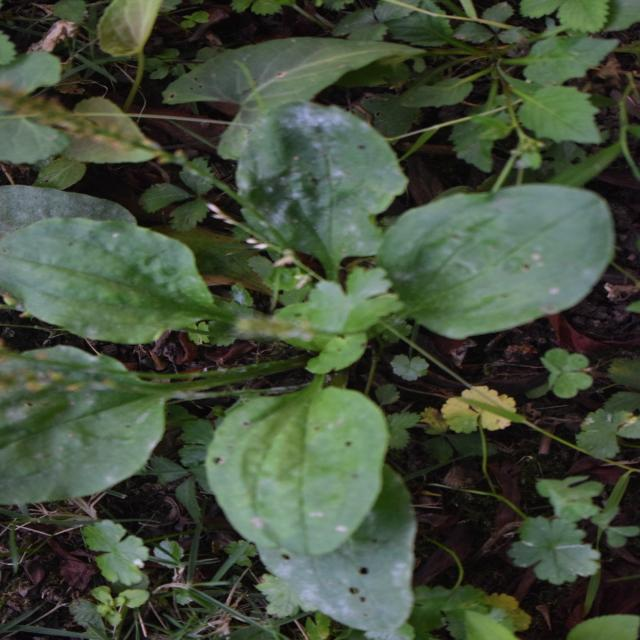plantain: (59, 16, 509, 602)
